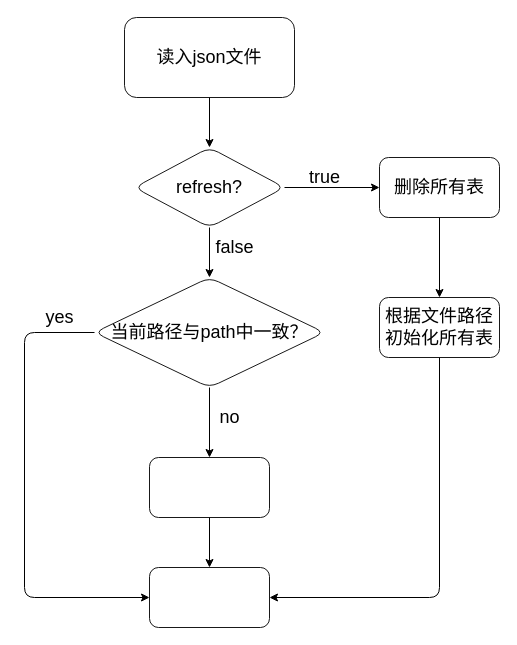
This 517x645 diagram has some shape labels left out. The shapes that lost their labels are listed below. From the top down, each one's box as (x1, y1, x2, y2) in pixels, then its label:
(148, 456, 270, 518): 删除原表生成对应新表
(148, 566, 270, 628): 更新path表
